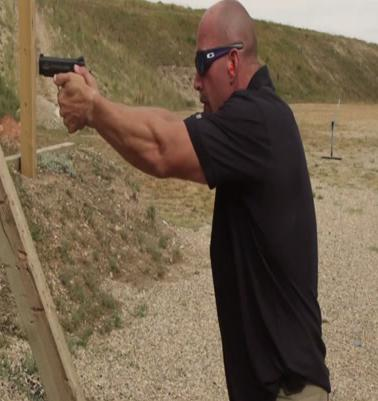pistol: (37, 54, 88, 131)
